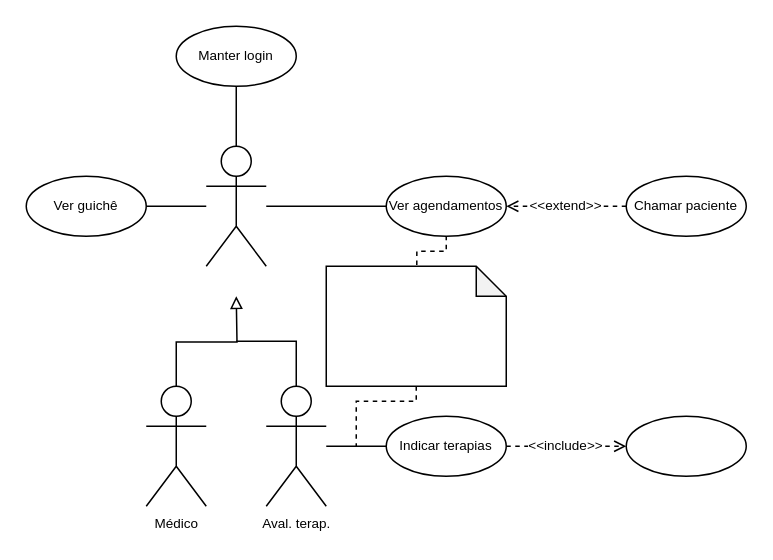
This 773x560 diagram has some shape labels left out. The centre of each missing label's shape, as x and y in pixels:
"Colaborador" belongs at [235,205].
"Gerar documento" belongs at [685,445].
"É preciso estar logado" belongs at [415,325].
